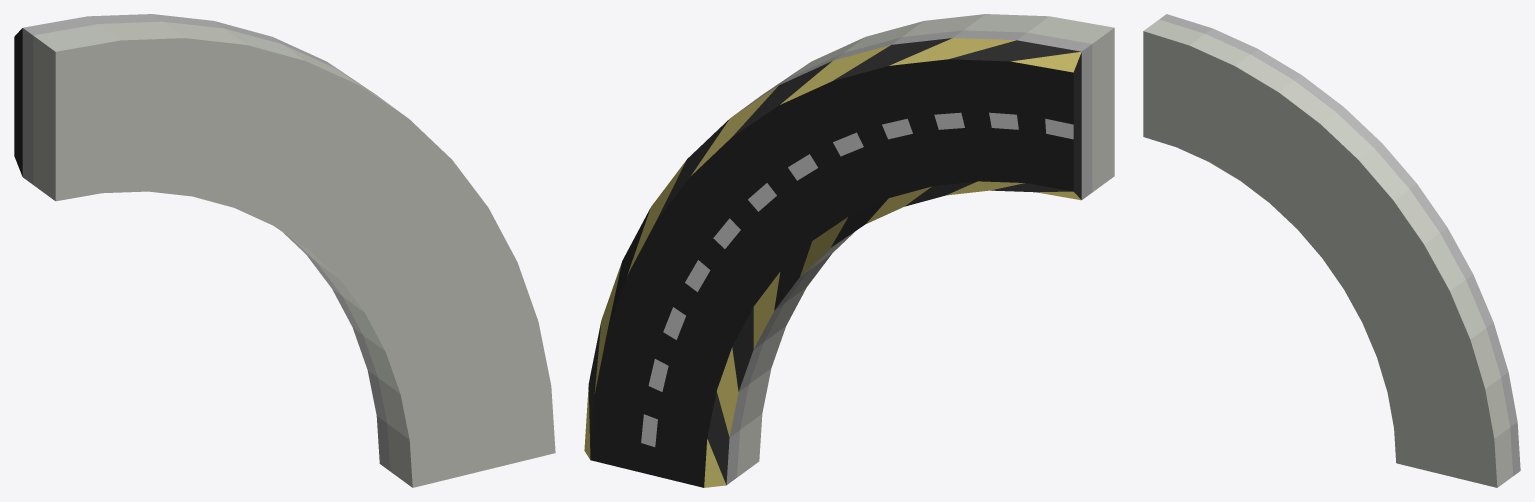
File: forklift_path_floor_right.fbx
3 renders of one model, left to right at view 1: azimuth 30°, elevation 25°; view 2: azimuth 150°, elevation 25°; view 3: azimuth 330°, elevation 25°, orthographic. The views are drawn at different scales.
Visible parts, largest first — view 1: Circle.001; view 2: Circle.001; view 3: Circle.001.
Part boxes in pixels (box(x1,y1,x2,y2)): Circle.001: box(14, 14, 555, 487); Circle.001: box(584, 14, 1114, 487); Circle.001: box(1143, 14, 1520, 487).
Bounding box in the file's own units: 350 × 350 × 50.
